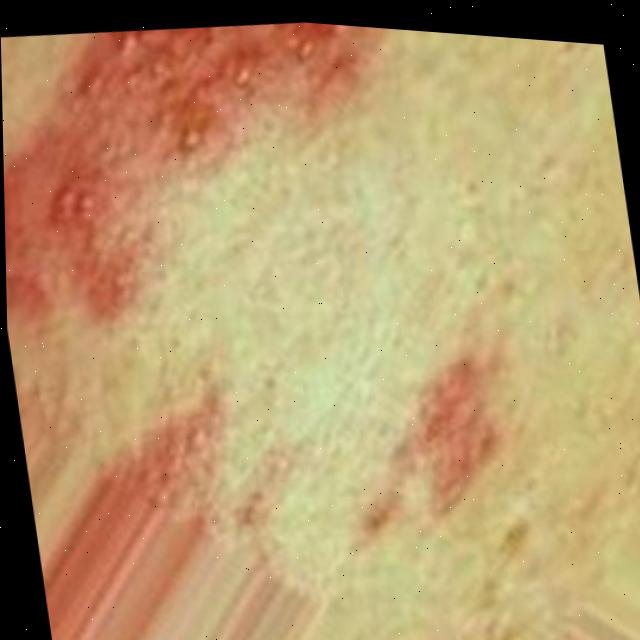Shingles: (0, 0, 425, 354), (121, 334, 519, 600)
